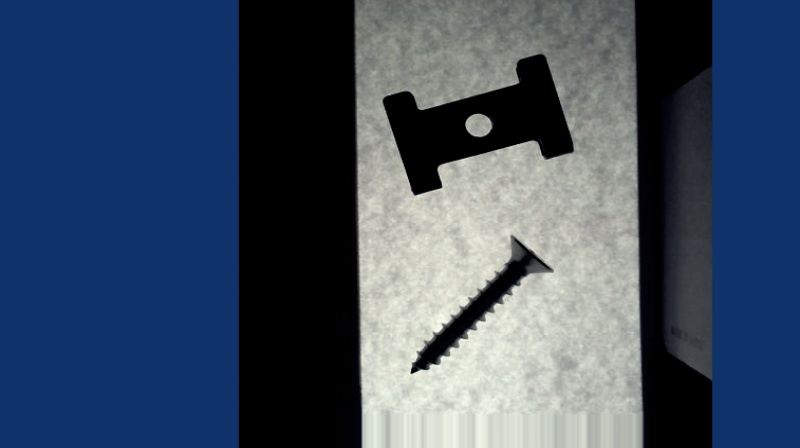O002: (382, 52, 574, 194)
S001: (405, 234, 551, 375)
